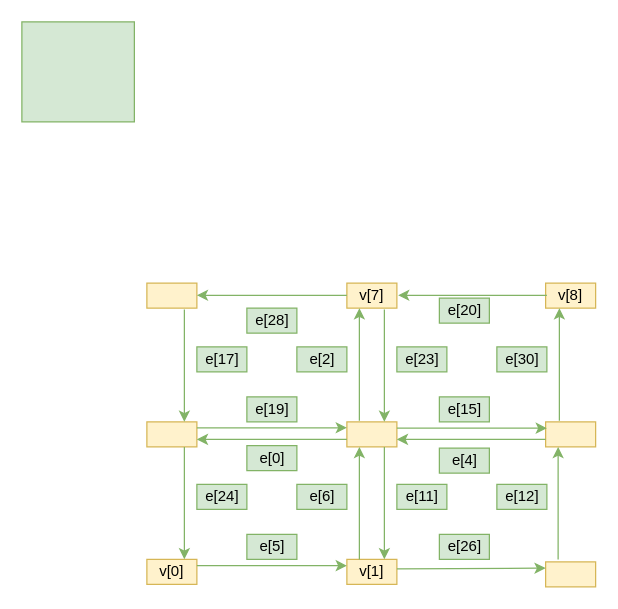
Some shapes in this 618 by 609 pixel diagram are drawn without their labels. Each missing label, with the centre of its shape:
"face: [1,4,3,0] face: [2,5,4,1] face: [4,7,6,3] face: [5,8,7,4]" goes at point (77, 71).
"v[2]" goes at point (570, 574).
"v[3]" goes at point (171, 434).
"v[4]" goes at point (371, 434).
"v[5]" goes at point (570, 434).
"v[6]" goes at point (171, 295).
